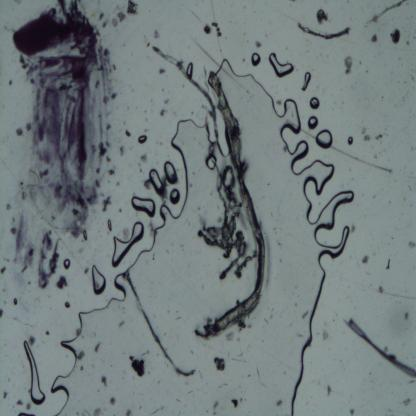Air bubble: (268, 91, 354, 274), (51, 303, 113, 415), (287, 271, 329, 415), (21, 340, 46, 405), (111, 222, 144, 269), (268, 50, 296, 79), (89, 263, 107, 296), (148, 168, 166, 199), (315, 128, 334, 150), (163, 161, 179, 186), (168, 188, 181, 207), (309, 94, 321, 112), (249, 52, 262, 68), (306, 114, 319, 130), (301, 72, 311, 92), (62, 258, 73, 270), (186, 61, 194, 77), (138, 134, 148, 146), (106, 219, 113, 234), (82, 229, 89, 242), (346, 135, 354, 146), (64, 300, 71, 309)
Background material: (39, 236, 59, 291), (130, 192, 156, 220), (127, 353, 146, 380), (100, 193, 114, 212), (315, 8, 329, 26), (390, 27, 402, 48), (213, 355, 226, 373), (343, 56, 354, 77), (322, 380, 334, 398), (97, 373, 109, 391), (212, 20, 223, 38), (193, 327, 206, 342), (56, 276, 68, 291), (127, 1, 139, 16), (15, 409, 36, 416), (203, 22, 213, 36), (91, 405, 103, 416), (401, 396, 413, 407), (150, 406, 163, 416), (118, 142, 127, 156), (92, 339, 101, 353), (361, 253, 370, 267), (121, 405, 132, 416), (116, 10, 126, 22), (27, 335, 37, 347), (230, 398, 240, 410), (153, 27, 161, 41), (374, 283, 384, 294), (106, 393, 116, 404), (346, 404, 355, 416), (3, 202, 12, 214), (10, 217, 16, 235), (407, 239, 416, 250), (370, 32, 379, 43), (111, 16, 118, 30), (403, 309, 410, 322), (140, 154, 149, 164), (300, 308, 309, 318), (321, 328, 330, 338), (158, 66, 167, 76), (348, 223, 356, 234), (253, 366, 260, 378), (144, 178, 151, 190), (14, 128, 23, 137), (77, 350, 86, 359), (374, 133, 384, 141), (117, 320, 127, 328), (364, 134, 372, 144), (214, 398, 221, 409), (210, 407, 218, 416), (125, 127, 131, 139), (386, 257, 391, 271), (175, 312, 183, 320), (274, 398, 282, 406), (159, 109, 166, 118), (0, 308, 5, 320), (16, 399, 23, 407), (255, 40, 262, 48), (110, 165, 115, 176), (115, 177, 121, 186), (13, 296, 18, 306), (8, 78, 12, 88), (275, 98, 281, 104), (405, 39, 411, 45), (1, 268, 6, 275), (25, 401, 30, 408), (3, 391, 8, 398), (45, 330, 51, 335), (119, 207, 122, 215), (80, 364, 83, 370)
Cellulose filter fibre: (124, 271, 197, 377), (151, 45, 223, 144), (192, 169, 253, 282), (347, 316, 416, 380), (294, 19, 353, 41), (365, 1, 408, 28)
Microfibre: (206, 70, 268, 335)
Pen: (12, 1, 107, 230), (13, 217, 36, 274)
